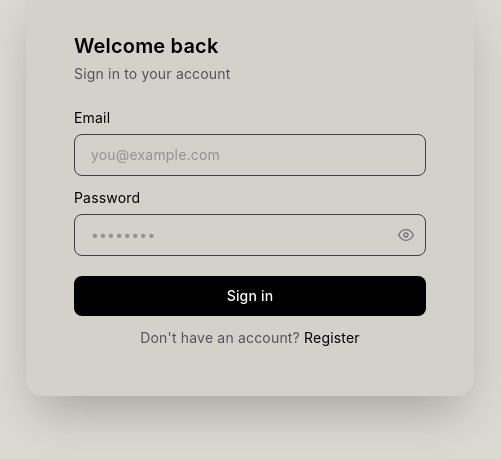
it: LoginForm › Validation › shows error for invalid email format
In the field with placeholder "you@example.com": (250, 155) [74,134,426,176], type "not-valid"
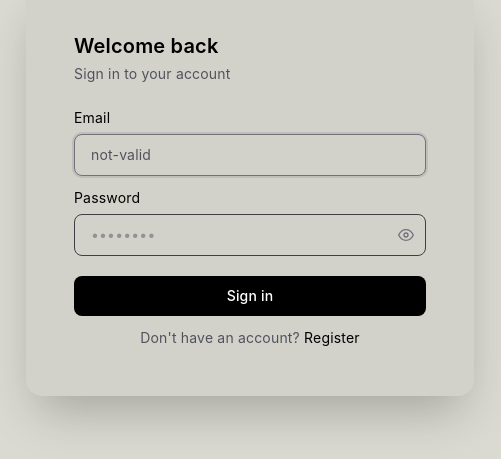
In the password field with placeholder "••••••••": (250, 235) [74,214,426,256], type "validpassword"
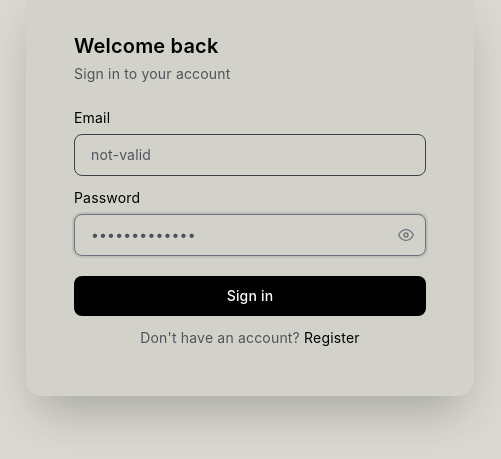
Click the button "Sign in": (250, 296) [74,276,426,316]
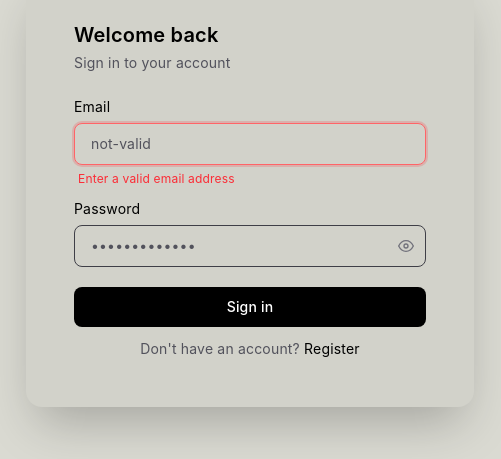
expect the text "Enter a valid email address" is shown: met, box [78,171,235,186]
